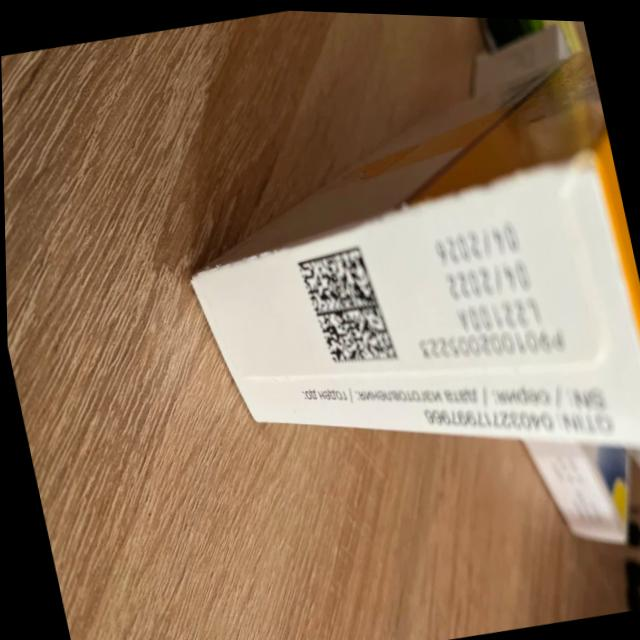datamatrix: (293, 239, 400, 374)
